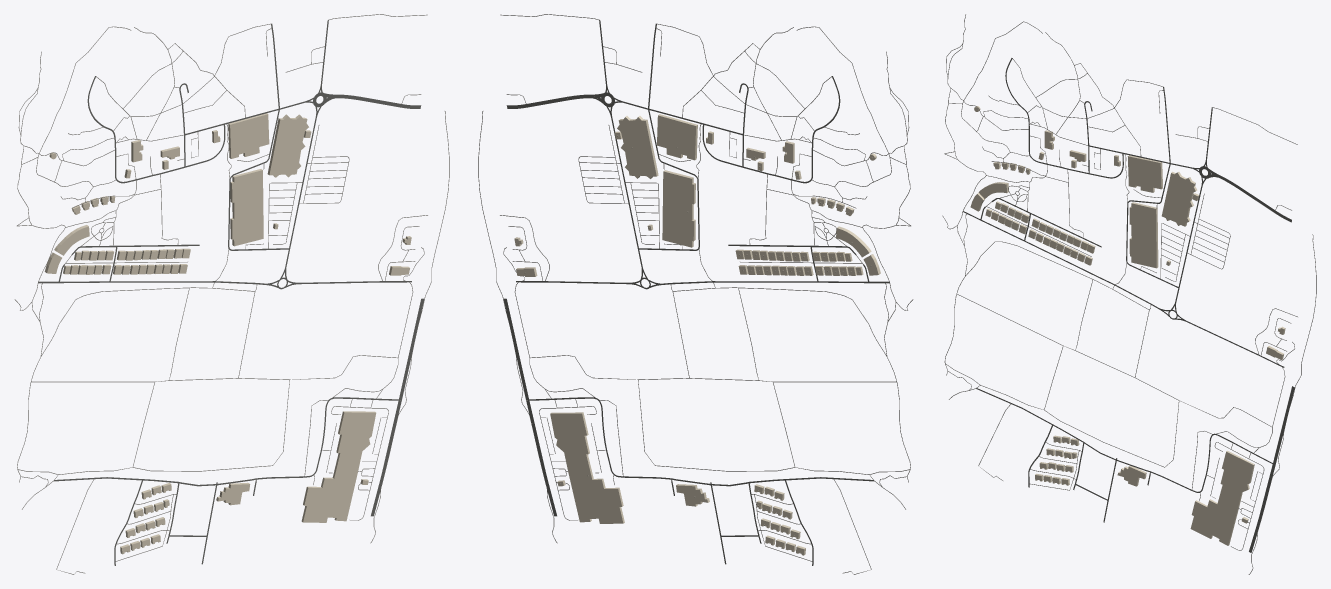
The model's file is historic-palestine-06_28_3482_3222.glb.
The picture shows the model from 3 angles, left to right: view 1: azimuth 30°, elevation 25°; view 2: azimuth 150°, elevation 25°; view 3: azimuth 330°, elevation 25°; orthographic projection. The views are drawn at different scales.
Visible parts, largest first — view 1: Building_, Building_.044, Building_.042, Building_.040; view 2: Building_, Building_.044, Building_.042, Building_.040; view 3: Building_, Building_.044, Building_.042, Building_.040.
Part boxes in pixels (box(x1,y1,x2,y2)): Building_: box(301, 411, 376, 522); Building_.044: box(230, 169, 263, 246); Building_.042: box(267, 114, 308, 177); Building_.040: box(228, 113, 269, 158); Building_: box(550, 412, 624, 523); Building_.044: box(662, 170, 695, 247); Building_.042: box(617, 116, 658, 178); Building_.040: box(657, 114, 697, 160); Building_: box(1190, 450, 1254, 545); Building_.044: box(1129, 202, 1158, 268); Building_.042: box(1161, 171, 1197, 226); Building_.040: box(1127, 155, 1162, 192).
Bounding box in the file's own units: 1044 × 1330 × 10.5.
